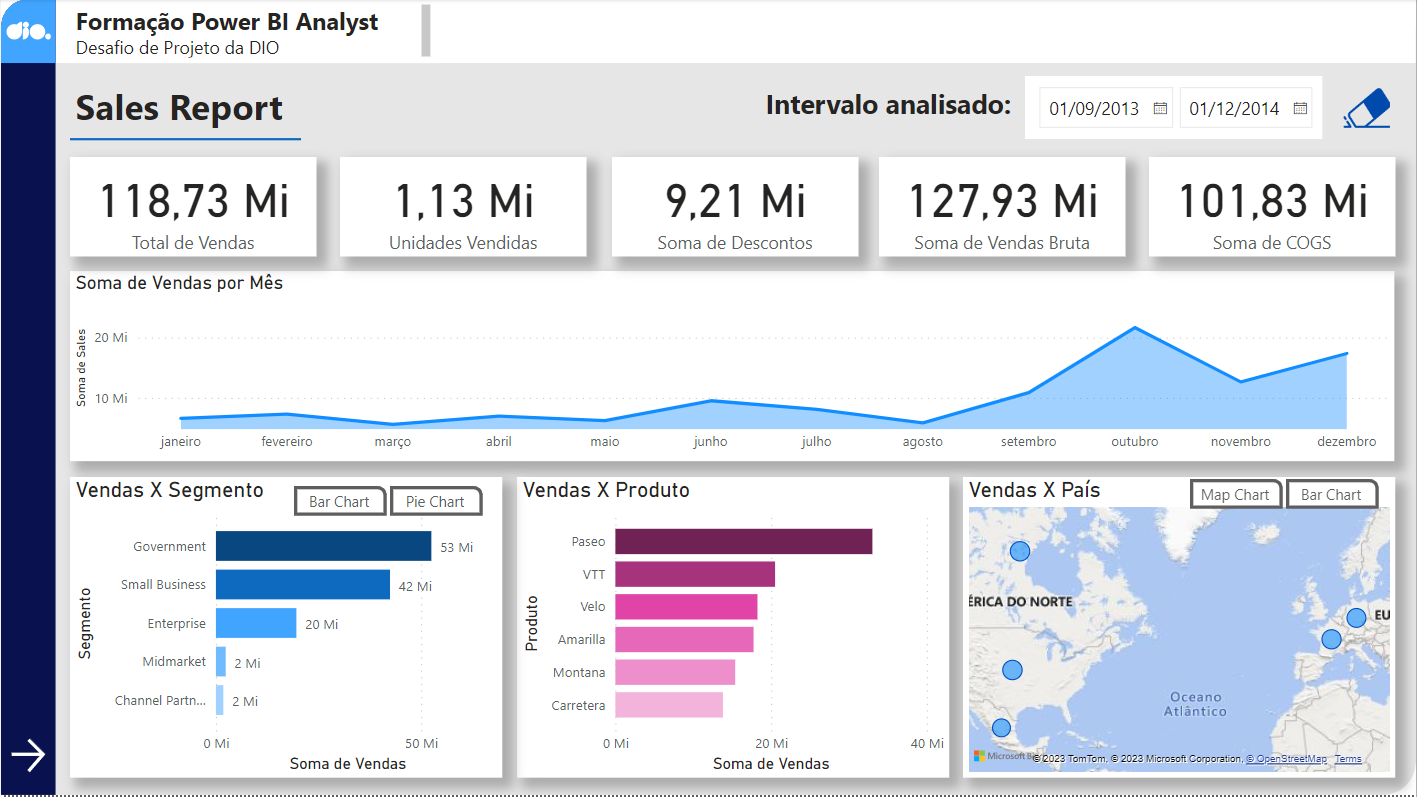

This screenshot's page, from the dashboard's own definition file:
{"tool":"powerbi","page":{"name":"Página 1","canvas":[1280,720],"ordinal":0},"visuals":[{"type":"shape","box":[0,0,1280,720.2],"z":0},{"type":"textbox","box":[62.2,70,209,57.3],"z":0,"group":"g5"},{"type":"image","title":"clear","box":[1209.1,72.9,51.5,51.5],"z":0,"group":"g1"},{"type":"card","fields":{"Values":["Sum(financials. Sales)"]},"box":[62.2,142.9,222.6,90.4],"z":0,"group":"g2"},{"type":"clusteredBarChart","title":"Vendas X Segmento","fields":{"Y":["Sum(financials. Sales)"],"Category":["financials.Segment"]},"box":[62.2,432.5,390.7,272.1],"z":0,"group":"g4"},{"type":"map","title":"Vendas X País","fields":{"Size":["Sum(financials. Sales)"],"Category":["financials.Country"]},"box":[869.9,432.5,390.7,272.1],"z":0,"group":"g3"},{"type":"shape","box":[0,0,49.6,720.2],"z":1000},{"type":"slicer","fields":{"Values":["financials.Date"]},"box":[926.3,70,269.2,57.3],"z":1000,"group":"g1"},{"type":"shape","box":[62.2,111.8,209,31.1],"z":1000,"group":"g5"},{"type":"card","fields":{"Values":["Sum(financials.Units Sold)"]},"box":[306.1,142.9,222.6,90.4],"z":1000,"group":"g2"},{"type":"actionButton","title":"Botão - bar","box":[1162.2,434.3,83.9,27],"z":1250,"group":"g3"},{"type":"actionButton","title":"Botão - map","box":[1075.4,434.3,83.9,27],"z":1500,"group":"g3"},{"type":"actionButton","title":"Botão - bar","box":[264.6,440.3,83.9,27],"z":1500,"group":"g4"},{"type":"shape","box":[0,0,49.6,58.3],"z":2000},{"type":"textbox","box":[686.2,73.9,240.1,50.5],"z":2000,"group":"g1"},{"type":"card","fields":{"Values":["Sum(financials.Discounts)"]},"box":[552,142.9,222.6,90.4],"z":2000,"group":"g2"},{"type":"actionButton","title":"Botão - pie","box":[351.5,440.3,83.9,27],"z":2000,"group":"g4"},{"type":"image","title":"logo dio","box":[0,3.9,49.6,49.6],"z":3000},{"type":"actionButton","box":[1209.1,73.9,51.5,50.5],"z":3000,"group":"g1"},{"type":"card","fields":{"Values":["Sum(financials.Gross Sales)"]},"box":[794,142.9,222.6,90.4],"z":3000,"group":"g2"},{"type":"shape","box":[49.6,0,1230.4,58.3],"z":4000},{"type":"card","fields":{"Values":["Sum(financials.COGS)"]},"box":[1038,142.9,222.6,90.4],"z":4000,"group":"g2"},{"type":"textbox","box":[62.2,0,331.4,58.3],"z":5000},{"type":"stackedAreaChart","title":"Soma de  Vendas por Mês","fields":{"Y":["Sum(financials. Sales)"],"Category":["financials.Date.Variation.Hierarquia de datas.Mês"]},"box":[62.2,245.9,1198.4,172],"z":6000},{"type":"clusteredBarChart","title":"Vendas X Produto","fields":{"Y":["Sum(financials. Sales)"],"Category":["financials.Product"]},"box":[466.5,432.5,390.7,272.1],"z":7000},{"type":"group","id":"g1","title":"Filtro de data","box":[686.2,70,574.4,57.3],"z":8000},{"type":"group","id":"g2","title":"Cartões","box":[62.2,142.9,1198.4,90.4],"z":9000},{"type":"group","id":"g3","title":"Vendas X País","box":[869.9,432.5,391,272.1],"z":10000},{"type":"group","id":"g4","title":"Vendas X Segmento","box":[62,432.5,391,272.1],"z":11000},{"type":"group","id":"g5","title":"Title Report","box":[62.2,70,209,72.9],"z":12000},{"type":"actionButton","box":[3.4,663.7,41.7,40.6],"z":13000}]}

Visuals, with their boxes in screenshot pixels (x1, y1, x2, y2), scaled from the page's 1280x720 canvas onto the 1417x797 screenshot:
shape: 0,0,1416,796
textbox: 69,77,300,141
"clear" image: 1339,81,1396,138
card - Sum(financials. Sales): 69,158,315,258
"Vendas X Segmento" clusteredBarChart: 69,479,501,780
"Vendas X País" map: 963,479,1396,780
shape: 0,0,55,796
slicer - financials.Date: 1025,77,1323,141
shape: 69,124,300,158
card - Sum(financials.Units Sold): 339,158,585,258
"Botão - bar" actionButton: 1287,481,1379,511
"Botão - map" actionButton: 1191,481,1283,511
"Botão - bar" actionButton: 293,487,386,517
shape: 0,0,55,65
textbox: 760,82,1025,138
card - Sum(financials.Discounts): 611,158,858,258
"Botão - pie" actionButton: 389,487,482,517
"logo dio" image: 0,4,55,59
actionButton: 1339,82,1396,138
card - Sum(financials.Gross Sales): 879,158,1125,258
shape: 55,0,1416,65
card - Sum(financials.COGS): 1149,158,1396,258
textbox: 69,0,436,65
"Soma de  Vendas por Mês" stackedAreaChart: 69,272,1396,463
"Vendas X Produto" clusteredBarChart: 516,479,949,780
"Filtro de data" group: 760,77,1396,141
"Cartões" group: 69,158,1396,258
"Vendas X País" group: 963,479,1396,780
"Vendas X Segmento" group: 69,479,501,780
"Title Report" group: 69,77,300,158
actionButton: 4,735,50,780
